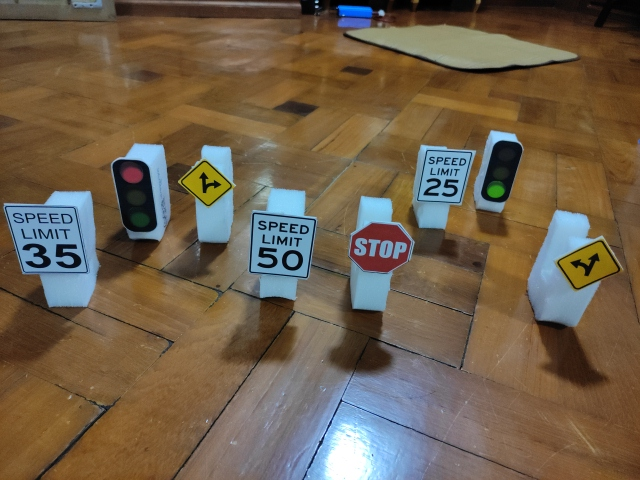Green Traffic Light: (479, 141, 523, 203)
Red Traffic Light: (111, 158, 158, 233)
Speed Limit 25: (415, 149, 474, 204)
Speed Limit 35: (4, 203, 89, 274)
Speed Limit 50: (249, 210, 318, 280)
Stop Sign: (349, 221, 414, 272)
Straight Or Left Sign: (556, 236, 622, 290)
Straight Or Right Sign: (178, 159, 234, 207)
